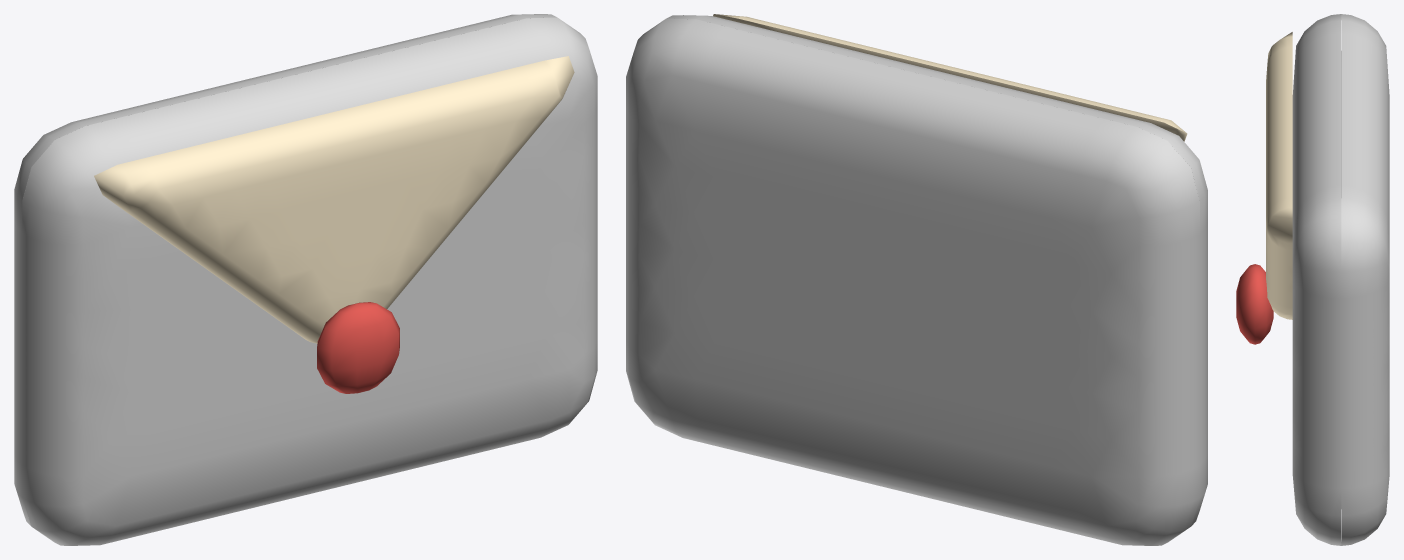
Rendered from envelope.glb.
3 renders of one model, left to right at view 1: azimuth 30°, elevation 25°; view 2: azimuth 150°, elevation 25°; view 3: azimuth 270°, elevation 25°, orthographic. The views are drawn at different scales.
Visible parts, largest first — view 1: envelope; view 2: envelope; view 3: envelope.
Boxes of the visible parts, left/top/right/bottom form: envelope: left=14, top=14, right=597, bottom=545; envelope: left=626, top=14, right=1207, bottom=545; envelope: left=1236, top=14, right=1389, bottom=545.
Bounding box in the file's own units: 1 × 0.7 × 0.2848.
